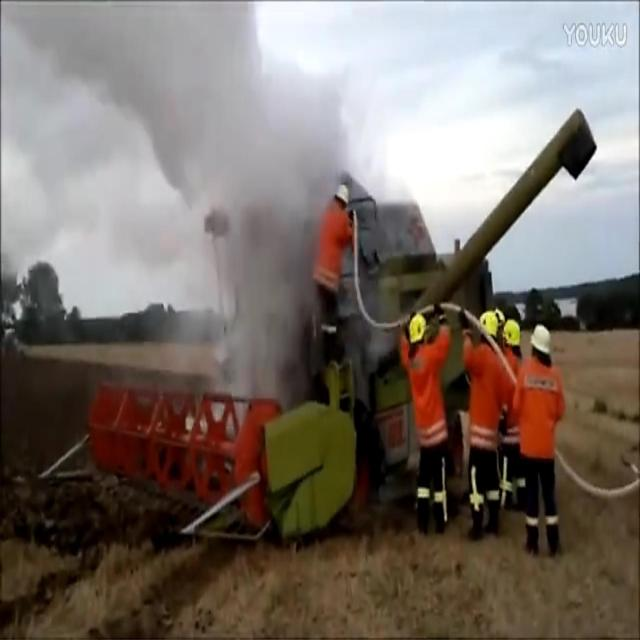smoke: (13, 4, 352, 404)
